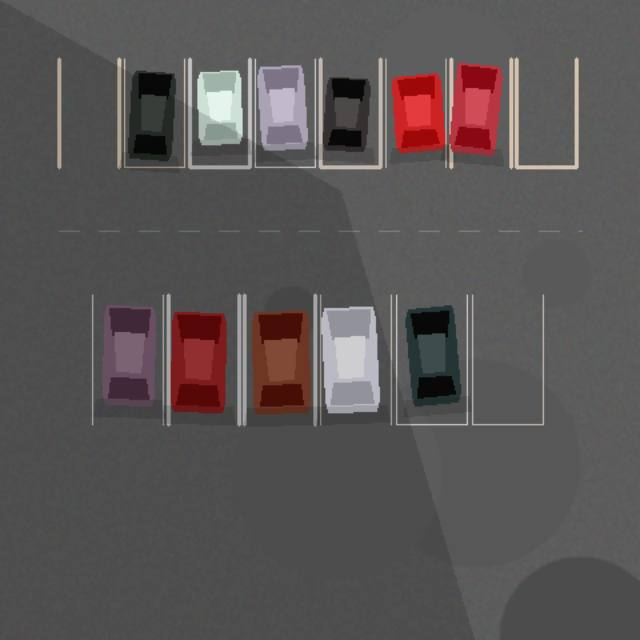space-empty: (472, 295, 543, 424), (59, 59, 119, 167), (516, 59, 576, 167)
space-occupied: (92, 295, 163, 424), (168, 295, 239, 424), (244, 295, 315, 424), (320, 295, 391, 424), (396, 295, 467, 424), (124, 59, 184, 167), (189, 59, 249, 167), (255, 59, 315, 167), (320, 59, 380, 167), (385, 59, 445, 167), (451, 59, 511, 167)
